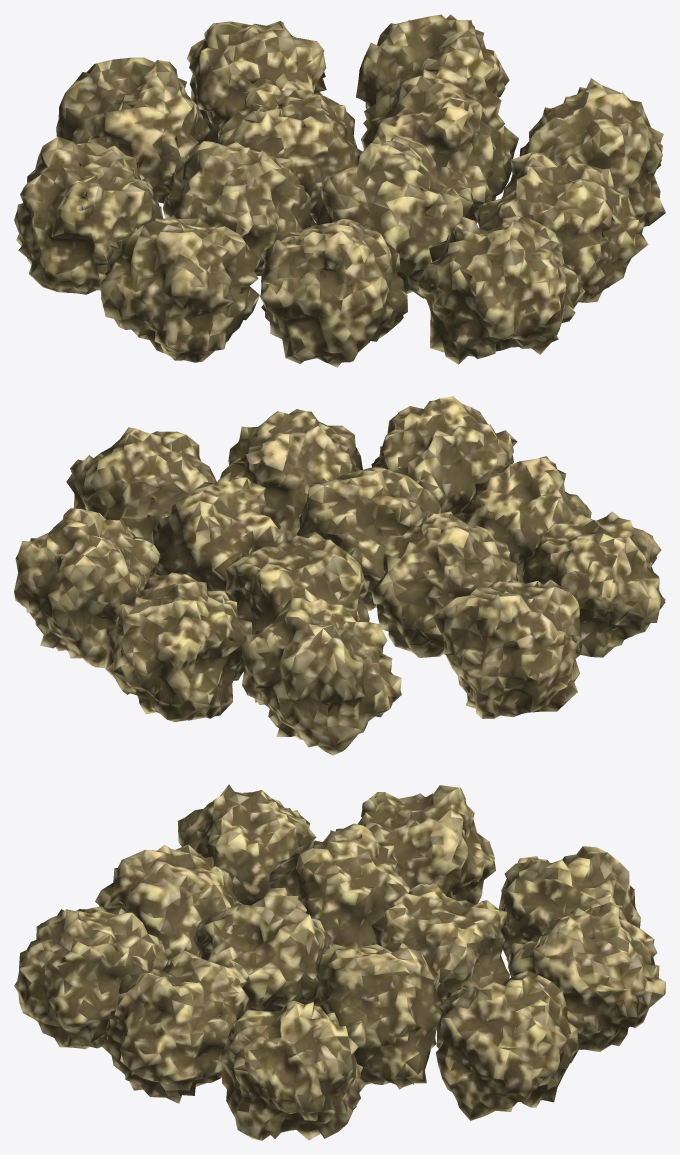
File: gold_nuggets-transformed.glb
3 renders of one model, top to bottom at view 1: azimuth 30°, elevation 25°; view 2: azimuth 150°, elevation 25°; view 3: azimuth 270°, elevation 25°, orthographic. The views are drawn at different scales.
Visible parts, largest first — view 1: Object_2; view 2: Object_2; view 3: Object_2.
Boxes of the visible parts, bbox=[...] form: Object_2: bbox=[14, 14, 665, 367]; Object_2: bbox=[14, 396, 665, 755]; Object_2: bbox=[14, 784, 665, 1140].
Bounding box in the file's own units: 1074 × 255 × 1080.
1 material, 1 textured.
